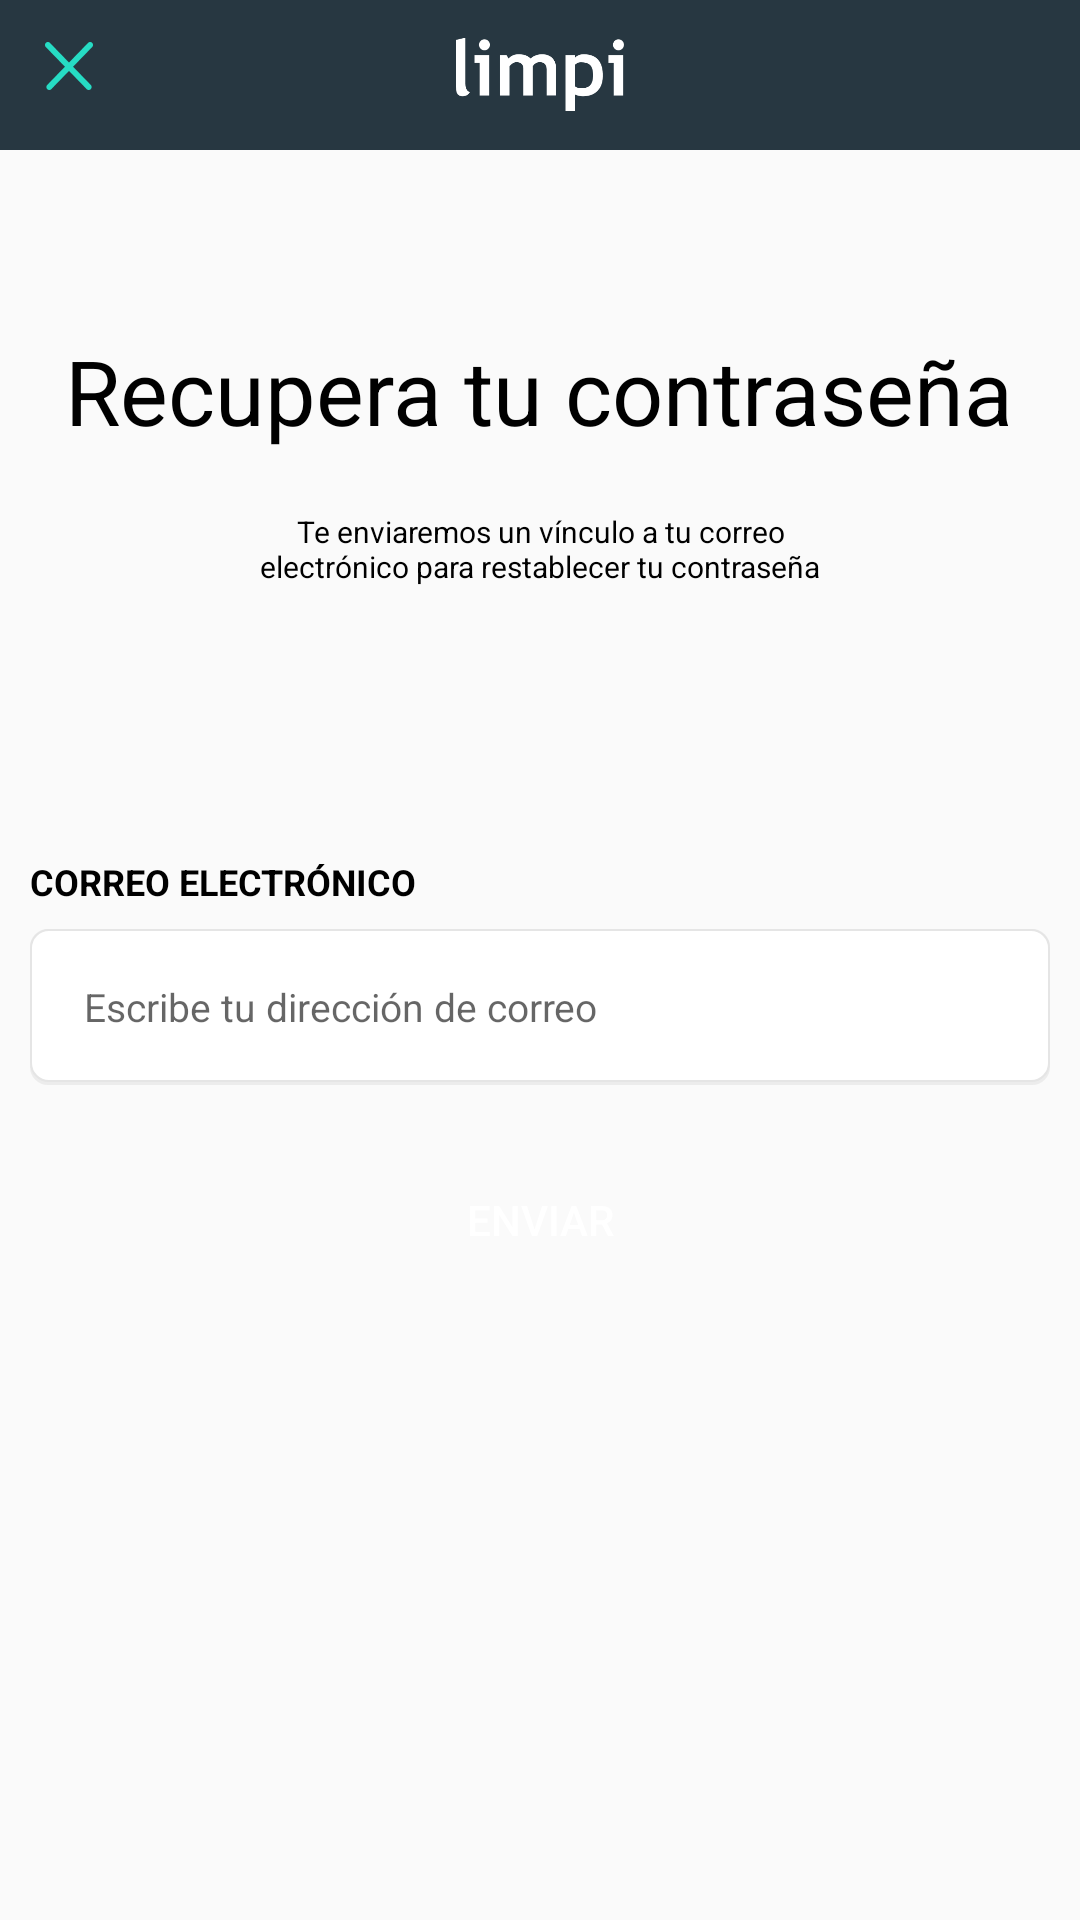

Screen size 1080 x 1920. Icon name, then its center in pixels as [x,y]:
cancelar: [69,66]
